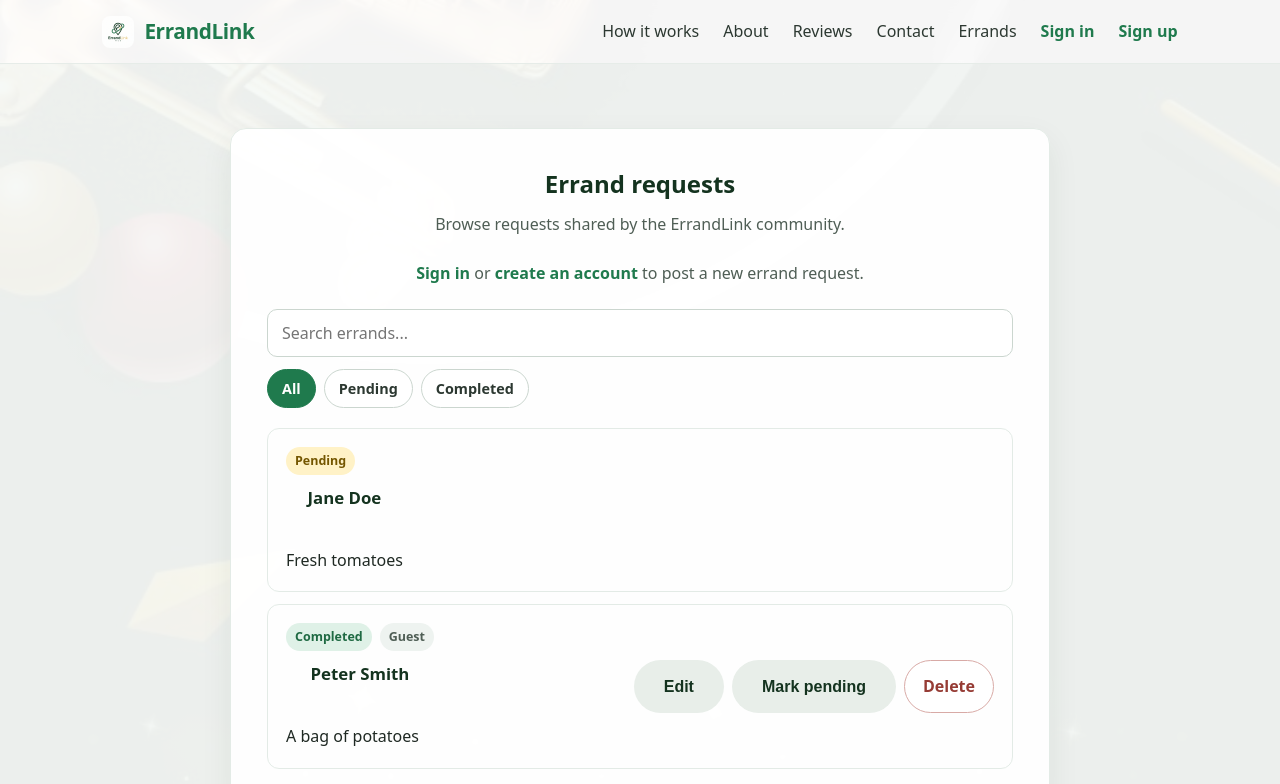
errand requests › filters and searches the request list
Expected: the text "Fresh tomatoes" is shown, [286,548,403,573]
Expected: the text "A bag of potatoes" is shown, [286,724,434,750]
Click the button "Completed". click: click(475, 388)
box: [421,369,529,408]
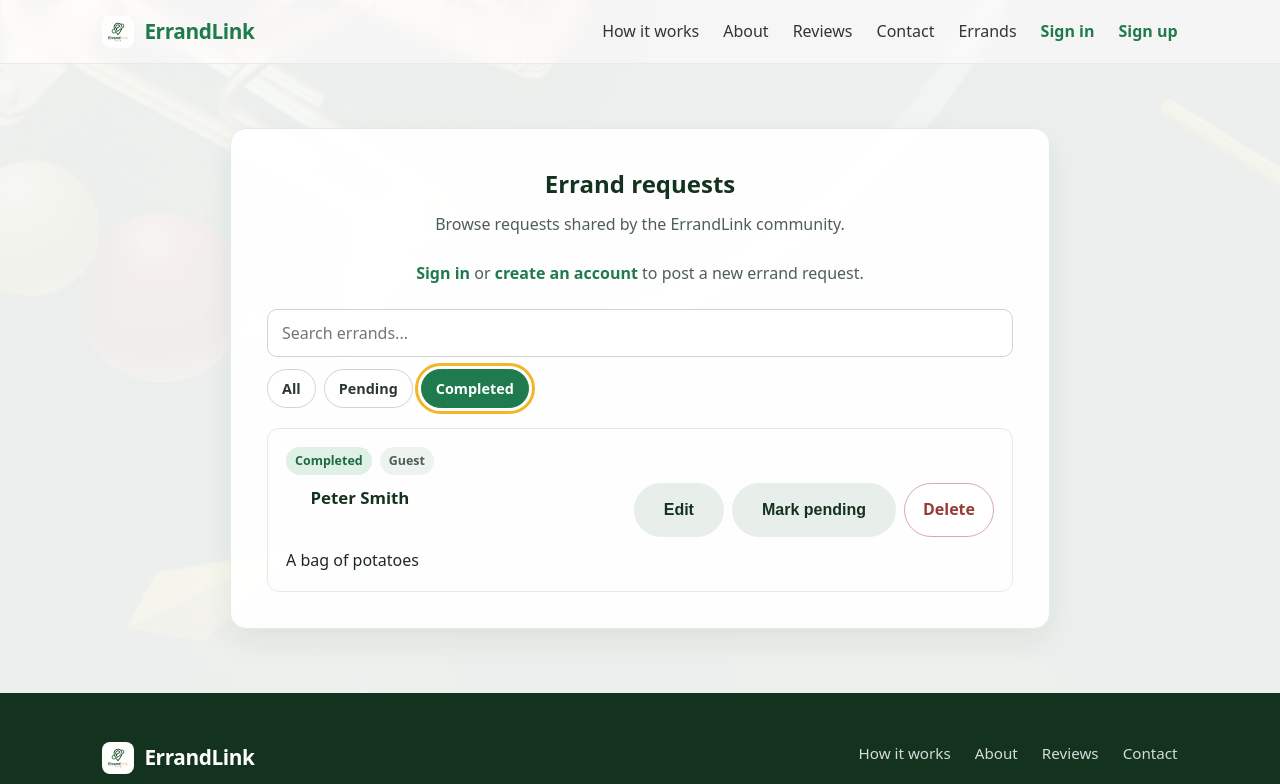
Expected: the text "A bag of potatoes" is shown, [286,548,434,573]
Now the text "Fresh tomatoes" is gone
Click the button "All". click: click(291, 388)
box: [267,369,316,408]
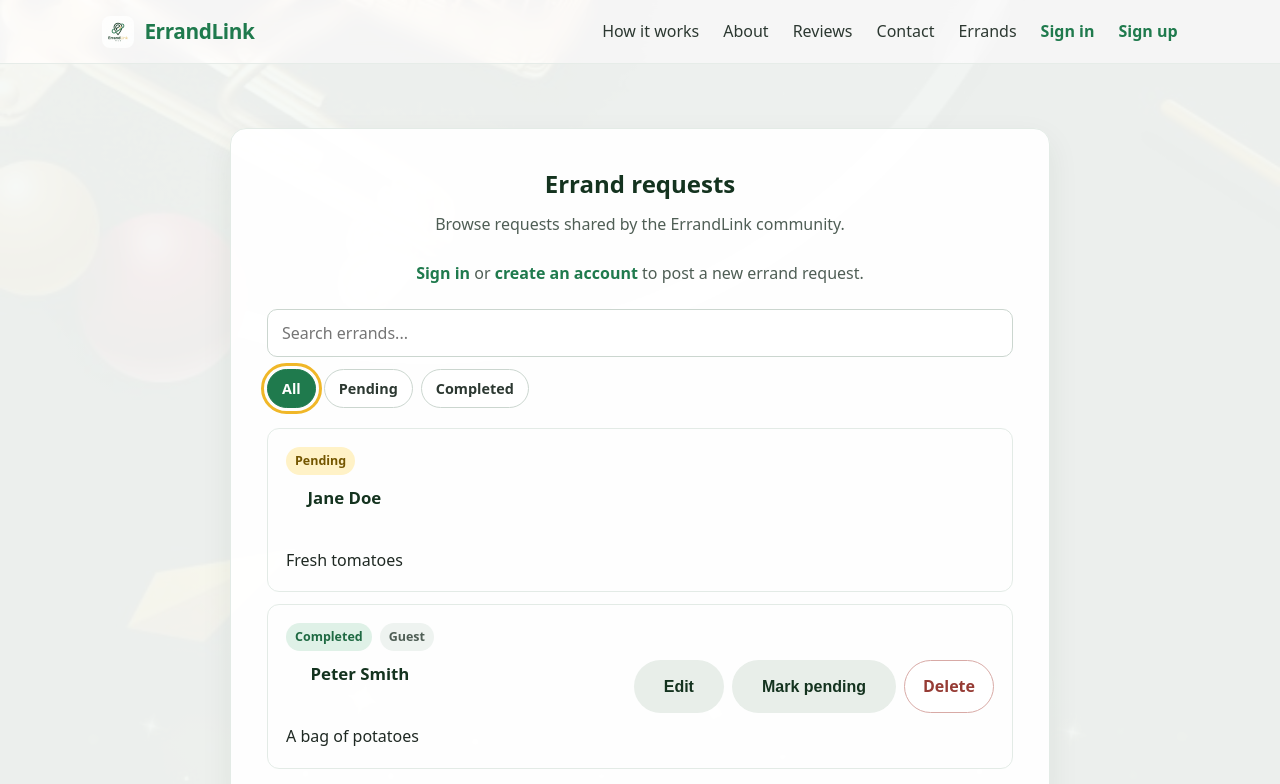
Type "tomatoes" into the search field labelled "Search errands". click: (640, 333)
box: [267,309,1013,357]
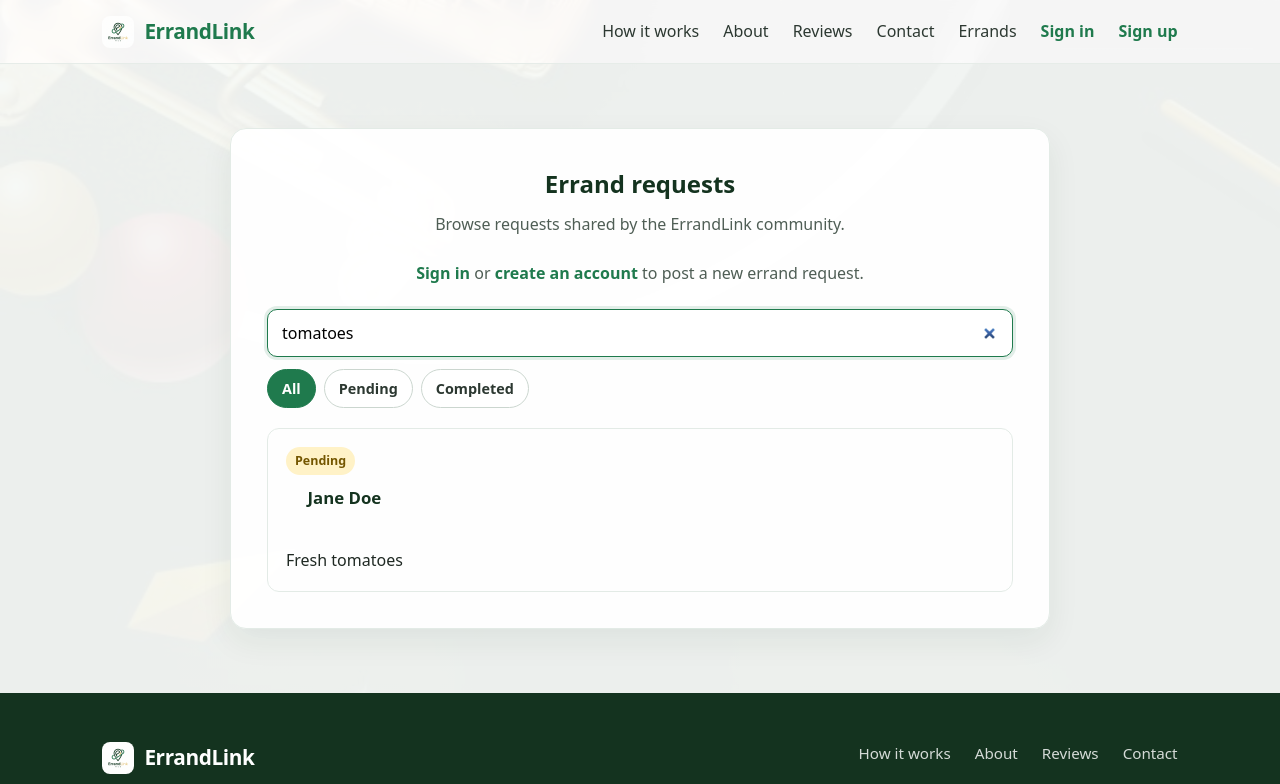
Now the text "Fresh tomatoes" is shown, box [286,548,403,573]
Now the text "A bag of potatoes" is gone
